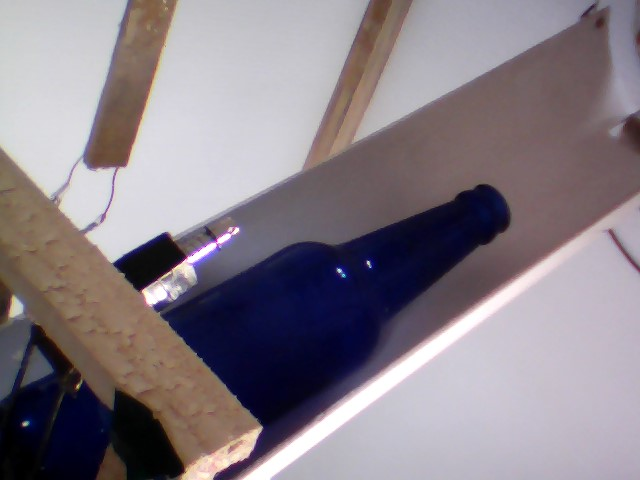vidrio: (184, 177, 516, 434)
